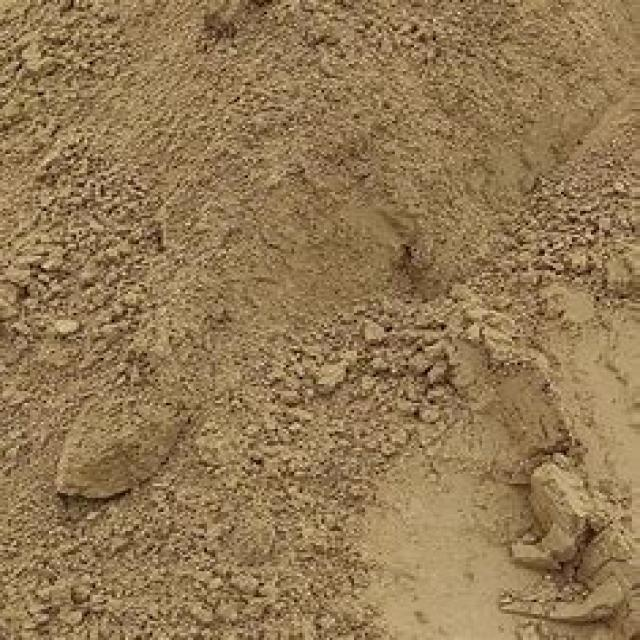Alluvial Soil: (27, 40, 570, 598)
